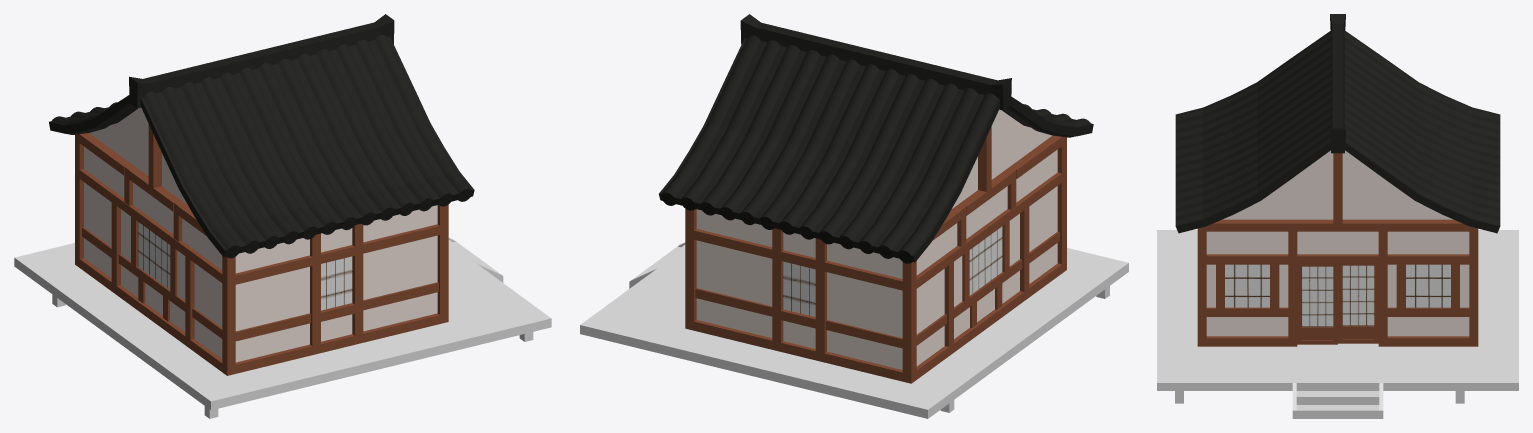
File: Warehouse4 1.fbx
3 renders of one model, left to right at view 1: azimuth 30°, elevation 25°; view 2: azimuth 150°, elevation 25°; view 3: azimuth 270°, elevation 25°, orthographic. The views are drawn at different scales.
Parts seen in each view (by area): view 1: Plane.006, Cube.050, Cube.057, Cube.111, Cube.040, Cube.088, Cube.112, Cube.114, Cube.087, Cube.102, Plane, Cube.100 (+30 smaller); view 2: Plane.006, Cube.059, Cube.065, Cube.111, Cube.218, Cube.102, Cube.112, Cube.086, Cube.103, Cube.088, Plane, Cube.100 (+30 smaller); view 3: Plane.006, Plane, Cube.009, Cube.035, Cube.040, Cube.218, Cube.061, Cube.064, Cube.042, Cube.043, Cube.124, Cube.111 (+30 smaller).
Part boxes in pixels (x1,y1,x2,y2): Plane.006: [49, 35, 474, 258]; Cube.050: [363, 235, 437, 331]; Cube.057: [235, 266, 309, 362]; Cube.111: [129, 14, 394, 108]; Cube.040: [445, 282, 551, 347]; Cube.088: [162, 356, 296, 410]; Cube.112: [121, 209, 185, 331]; Cube.114: [359, 323, 466, 368]; Cube.087: [274, 344, 381, 389]; Cube.102: [14, 243, 101, 302]; Plane: [89, 107, 187, 204]; Cube.100: [112, 320, 199, 374]; Plane.006: [659, 35, 1093, 263]; Cube.059: [696, 240, 772, 337]; Cube.065: [827, 272, 902, 369]; Cube.111: [740, 14, 1011, 110]; Cube.218: [580, 288, 688, 355]; Cube.102: [841, 363, 978, 418]; Cube.112: [954, 213, 1019, 338]; Cube.086: [667, 329, 775, 376]; Cube.103: [754, 351, 863, 397]; Cube.088: [1040, 248, 1128, 308]; Plane: [952, 109, 1051, 208]; Cube.100: [989, 290, 1078, 345]; Plane.006: [1175, 30, 1500, 233]; Plane: [1222, 150, 1453, 219]; Cube.009: [1206, 264, 1288, 336]; Cube.035: [1387, 264, 1469, 336]; Cube.040: [1157, 344, 1247, 390]; Cube.218: [1428, 344, 1518, 390]; Cube.061: [1247, 344, 1337, 390]; Cube.064: [1338, 344, 1428, 390]; Cube.042: [1297, 264, 1337, 344]; Cube.043: [1338, 264, 1378, 343]; Cube.124: [1292, 383, 1383, 418]; Cube.111: [1330, 14, 1345, 153].
Bounding box in the file's own units: 860 × 609 × 800.
